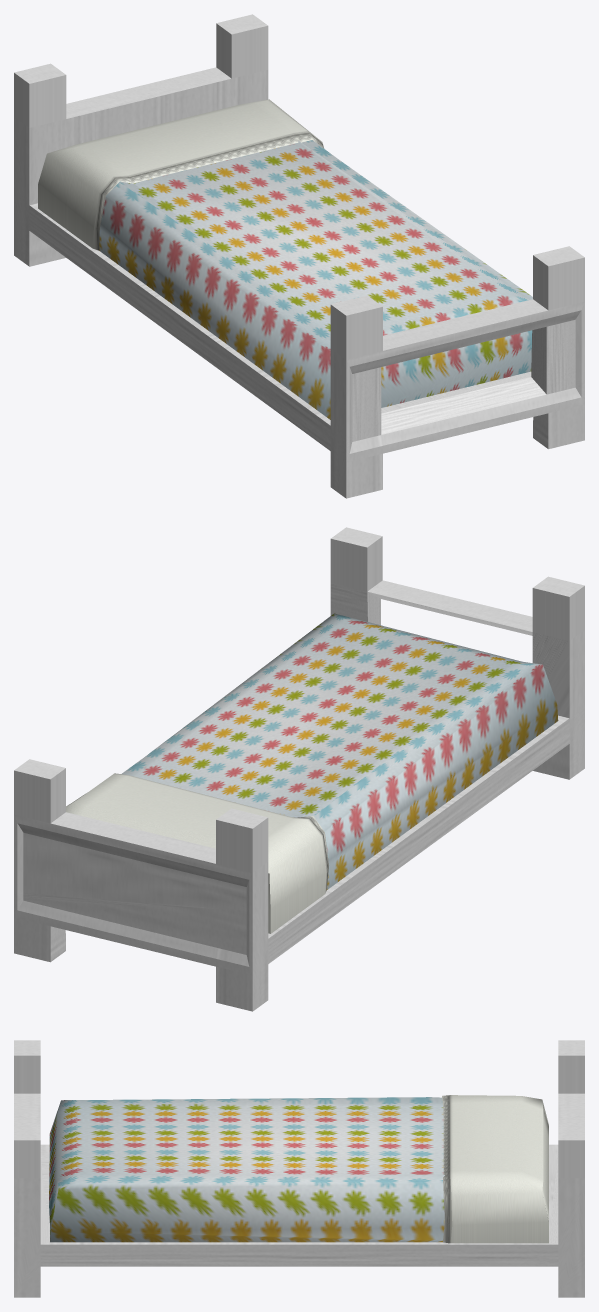
The model's file is Kiddie_Bed_I.FBX.
3 views of the same model, one above another, from view 1: azimuth 30°, elevation 25°; view 2: azimuth 150°, elevation 25°; view 3: azimuth 270°, elevation 25° (orthographic). The views are drawn at different scales.
Parts seen in each view (by area): view 1: Kiddie_Bed; view 2: Kiddie_Bed; view 3: Kiddie_Bed.
Boxes of the visible parts, x1,y1,x2,y2 form: Kiddie_Bed: [14, 14, 584, 498]; Kiddie_Bed: [14, 527, 584, 1011]; Kiddie_Bed: [14, 1040, 584, 1297].
Bounding box in the file's own units: 185 × 135 × 445.
